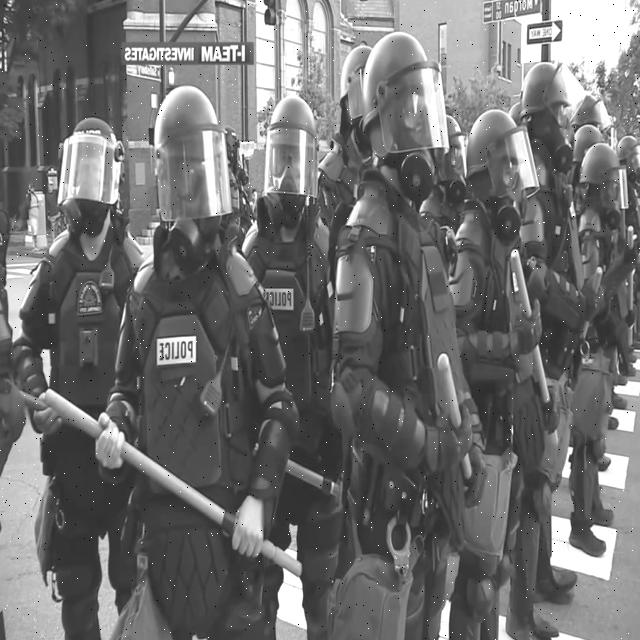police: (100, 64, 279, 640), (335, 14, 464, 640), (10, 102, 141, 640), (450, 76, 554, 640), (504, 30, 600, 640), (244, 66, 333, 640), (567, 119, 640, 578)
